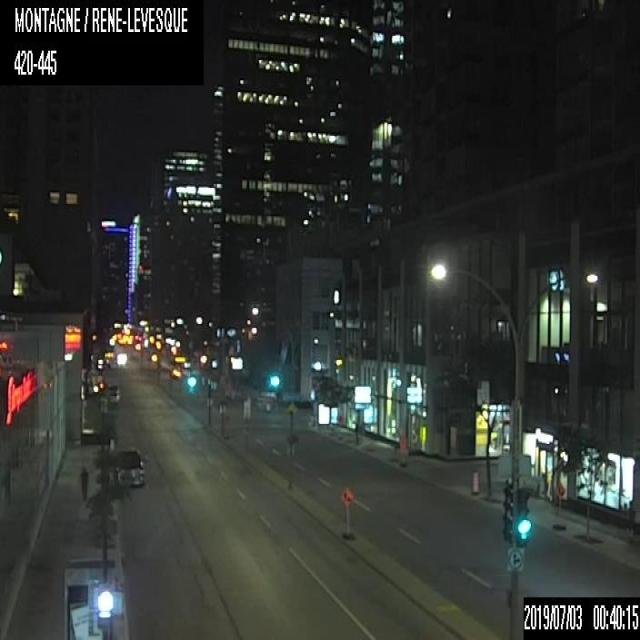construction: (552, 476, 566, 528), (341, 486, 354, 534), (398, 434, 407, 466), (470, 468, 478, 494)
pedestrian: (79, 464, 87, 501)
vehicle: (111, 444, 144, 485), (103, 381, 120, 404)
